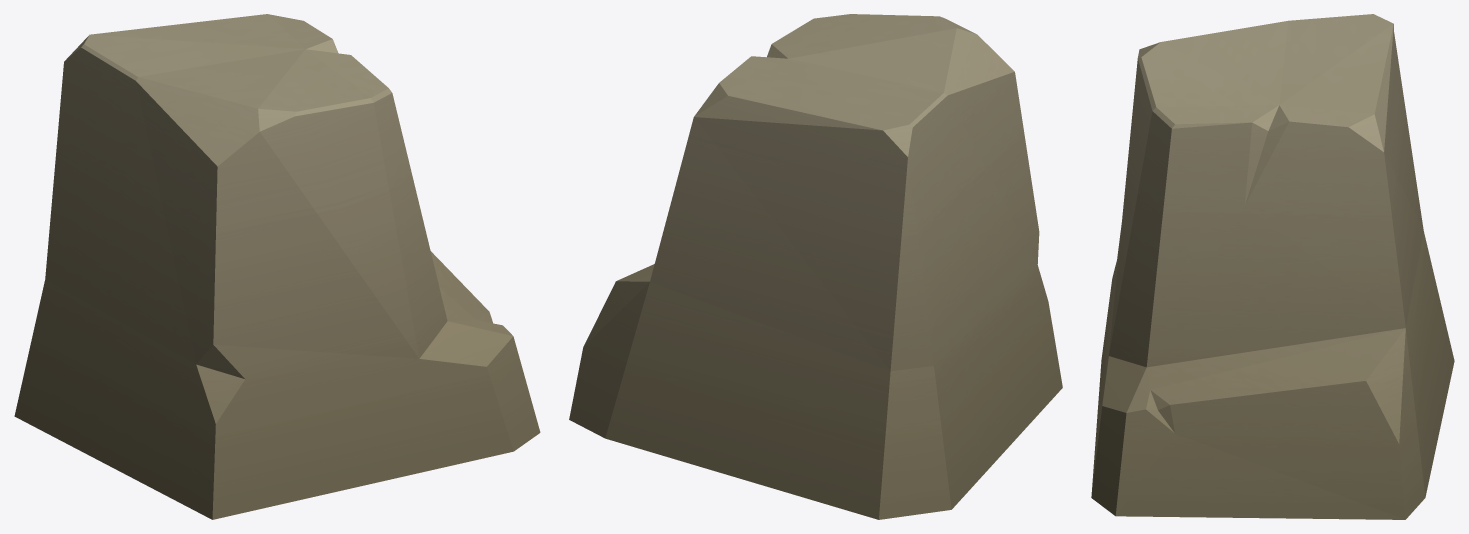
Rendered from Rock_06.fbx.
3 renders of one model, left to right at view 1: azimuth 30°, elevation 25°; view 2: azimuth 150°, elevation 25°; view 3: azimuth 270°, elevation 25°, orthographic. The views are drawn at different scales.
Visible parts, largest first — view 1: Rock_06; view 2: Rock_06; view 3: Rock_06.
Boxes of the visible parts, bbox=[...] form: Rock_06: bbox=[14, 14, 540, 519]; Rock_06: bbox=[569, 14, 1062, 519]; Rock_06: bbox=[1091, 14, 1454, 519].
Size of the model in its own units: 439 by 402 by 374.
